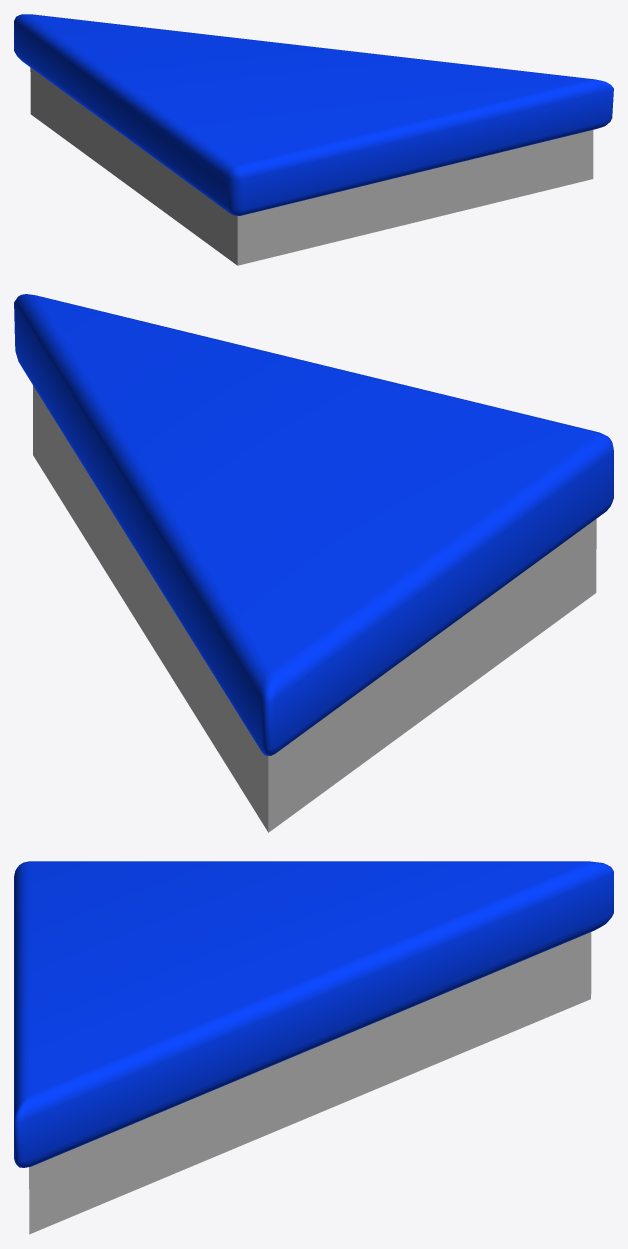
Rendered from Base 1 Triangle White Blue.glb.
3 views of the same model, one above another, from view 1: azimuth 30°, elevation 25°; view 2: azimuth 150°, elevation 25°; view 3: azimuth 270°, elevation 25° (orthographic). The views are drawn at different scales.
Parts seen in each view (by area): view 1: Base_1_Triangle_White_; view 2: Base_1_Triangle_White_; view 3: Base_1_Triangle_White_.
Part boxes in pixels (left/top/right/bottom): Base_1_Triangle_White_: left=14, top=14, right=613, bottom=265; Base_1_Triangle_White_: left=14, top=294, right=613, bottom=832; Base_1_Triangle_White_: left=14, top=861, right=613, bottom=1234.
Bounding box in the file's own units: 7.94 × 2 × 7.98.
